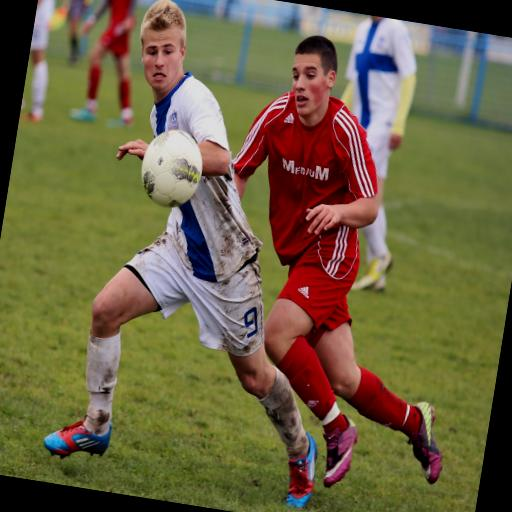shoe: (408, 402, 442, 484), (44, 420, 112, 458), (324, 417, 357, 487), (286, 433, 317, 507), (352, 252, 392, 290), (69, 107, 97, 122), (106, 117, 133, 128), (21, 97, 25, 110)
